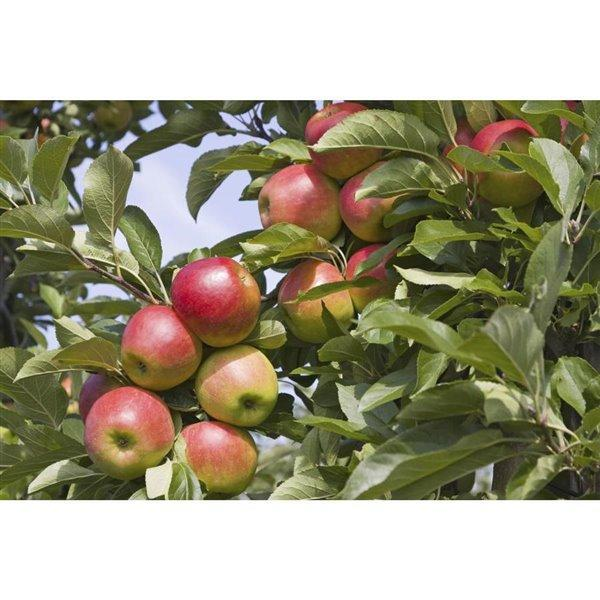apple: (77, 380, 173, 479), (170, 255, 262, 347), (118, 302, 199, 391), (276, 259, 357, 346), (473, 121, 548, 211), (193, 346, 277, 426), (255, 163, 342, 237), (177, 416, 256, 495), (340, 166, 413, 242), (348, 243, 396, 306)
